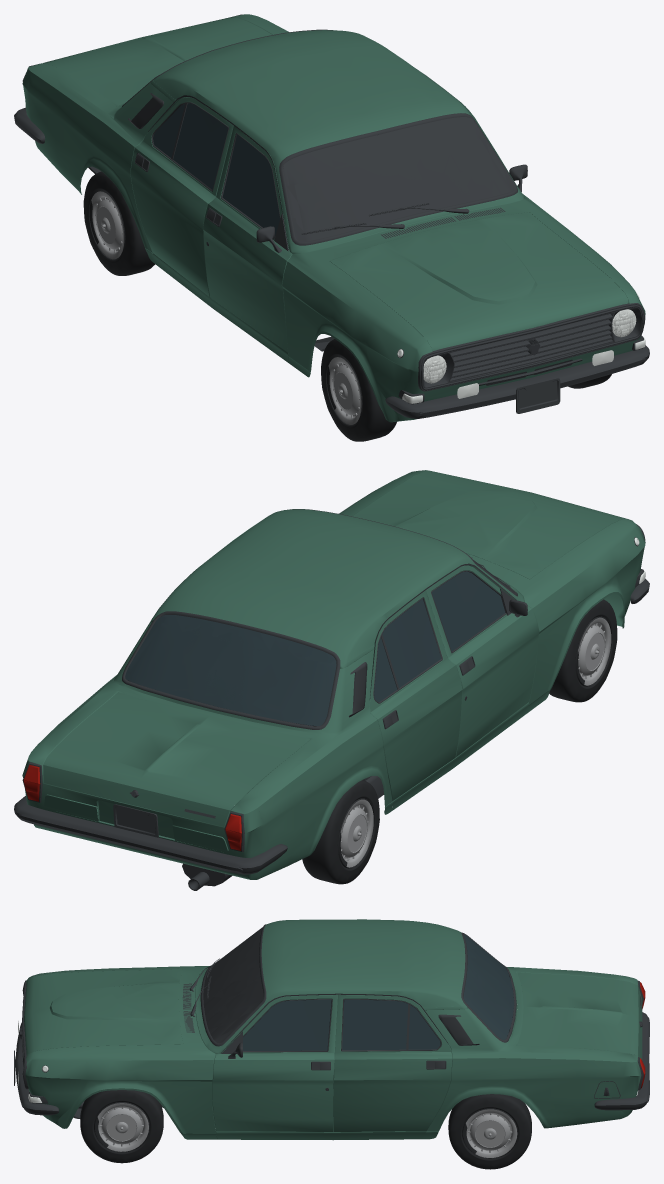
Rendered from gaz2410.glb.
The picture shows the model from 3 angles, top to bottom: view 1: azimuth 30°, elevation 25°; view 2: azimuth 150°, elevation 25°; view 3: azimuth 270°, elevation 25°; orthographic projection. The views are drawn at different scales.
Visible parts, largest first — view 1: chassisbody, chassis_trim, glass, wheel_rr, wheel_fr, headlights; view 2: chassisbody, glass, chassis_trim, wheel_rr, wheel_fr, taillights; view 3: chassisbody, chassis_trim, glass, wheel_rl, wheel_fl.
Part boxes in pixels (x1,y1,x2,y2): chassisbody: (22, 14, 645, 422); chassis_trim: (14, 14, 649, 418); glass: (153, 103, 279, 236); wheel_rr: (83, 171, 155, 275); wheel_fr: (321, 339, 396, 441); headlights: (397, 292, 645, 403); chassisbody: (22, 470, 645, 879); glass: (125, 571, 505, 726); chassis_trim: (14, 509, 649, 890); wheel_rr: (302, 780, 379, 884); wheel_fr: (549, 599, 617, 702); taillights: (23, 764, 241, 850); chassisbody: (24, 919, 642, 1140); chassis_trim: (14, 924, 649, 1115); glass: (243, 934, 514, 1050); wheel_rl: (448, 1094, 531, 1169); wheel_fl: (80, 1090, 163, 1163).
Size of the model in its own units: 1.97 by 1.59 by 5.16.
